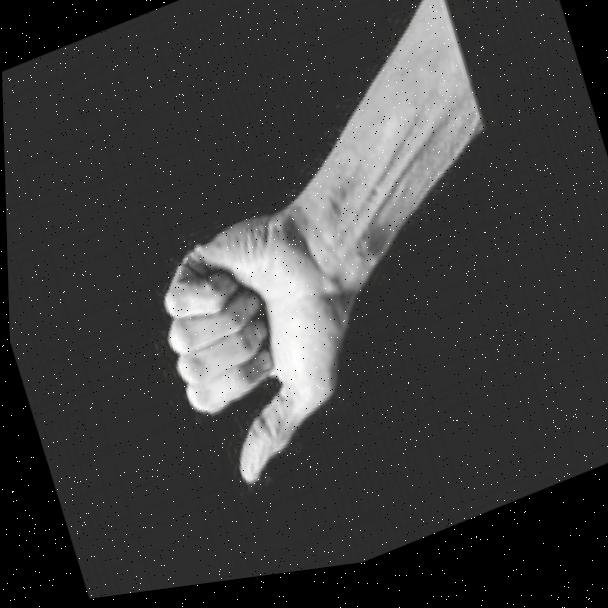five: (130, 162, 428, 517)
